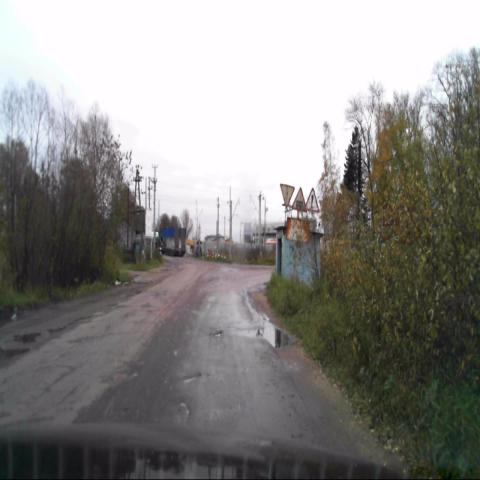1_1: (292, 186, 305, 210)
1_33: (305, 187, 319, 212)
